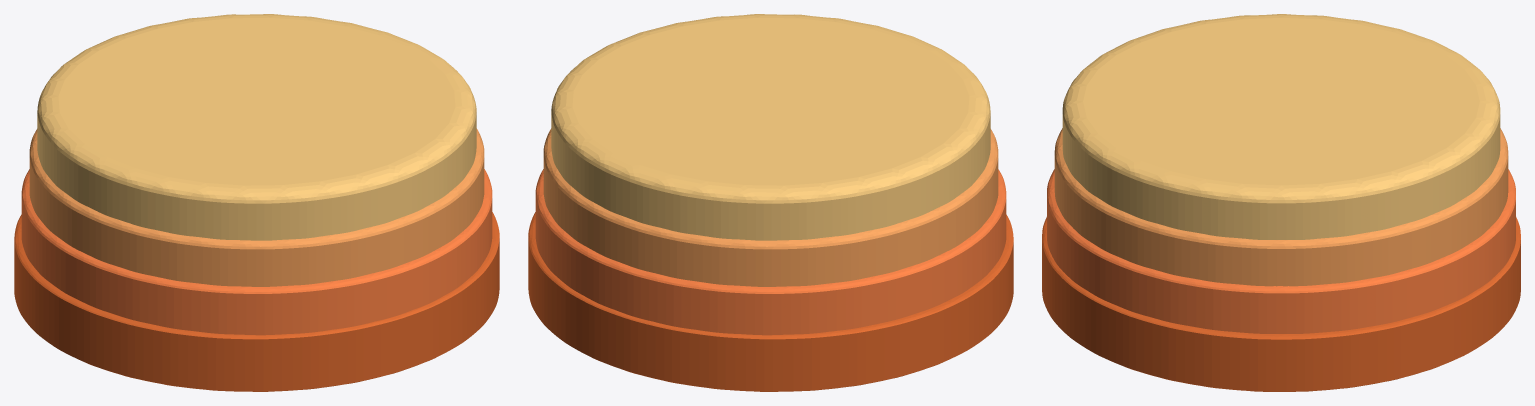
Rendered from bolocilindro cobertura verao.glb.
3 renders of one model, left to right at view 1: azimuth 30°, elevation 25°; view 2: azimuth 150°, elevation 25°; view 3: azimuth 270°, elevation 25°, orthographic.
Visible parts, largest first — view 1: Cylinder.002, Cylinder.005, Cylinder.004, Cylinder.003; view 2: Cylinder.002, Cylinder.005, Cylinder.004, Cylinder.003; view 3: Cylinder.002, Cylinder.005, Cylinder.004, Cylinder.003.
Boxes of the visible parts, x1,y1,x2,y2 form: Cylinder.002: (37,14,476,240); Cylinder.005: (14,212,499,391); Cylinder.004: (21,169,492,335); Cylinder.003: (29,128,484,286); Cylinder.002: (551,14,990,240); Cylinder.005: (528,212,1013,391); Cylinder.004: (535,169,1006,335); Cylinder.003: (543,128,998,286); Cylinder.002: (1062,14,1500,239); Cylinder.005: (1042,217,1520,391); Cylinder.004: (1047,169,1515,333); Cylinder.003: (1054,128,1508,286).
Size of the model in its own units: 3.04 by 1.32 by 3.
